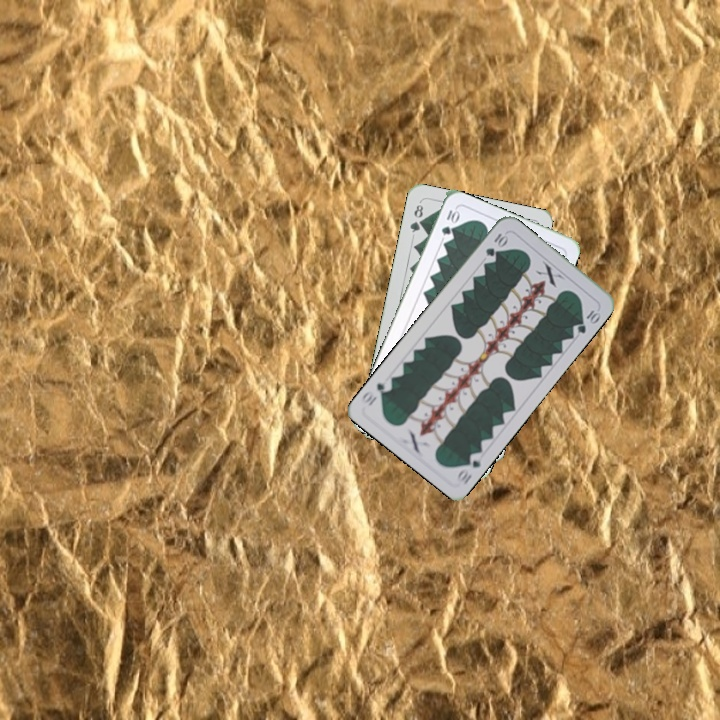G10: (453, 448, 483, 487), (481, 229, 511, 259), (437, 205, 461, 238)
G8: (406, 198, 426, 235)
